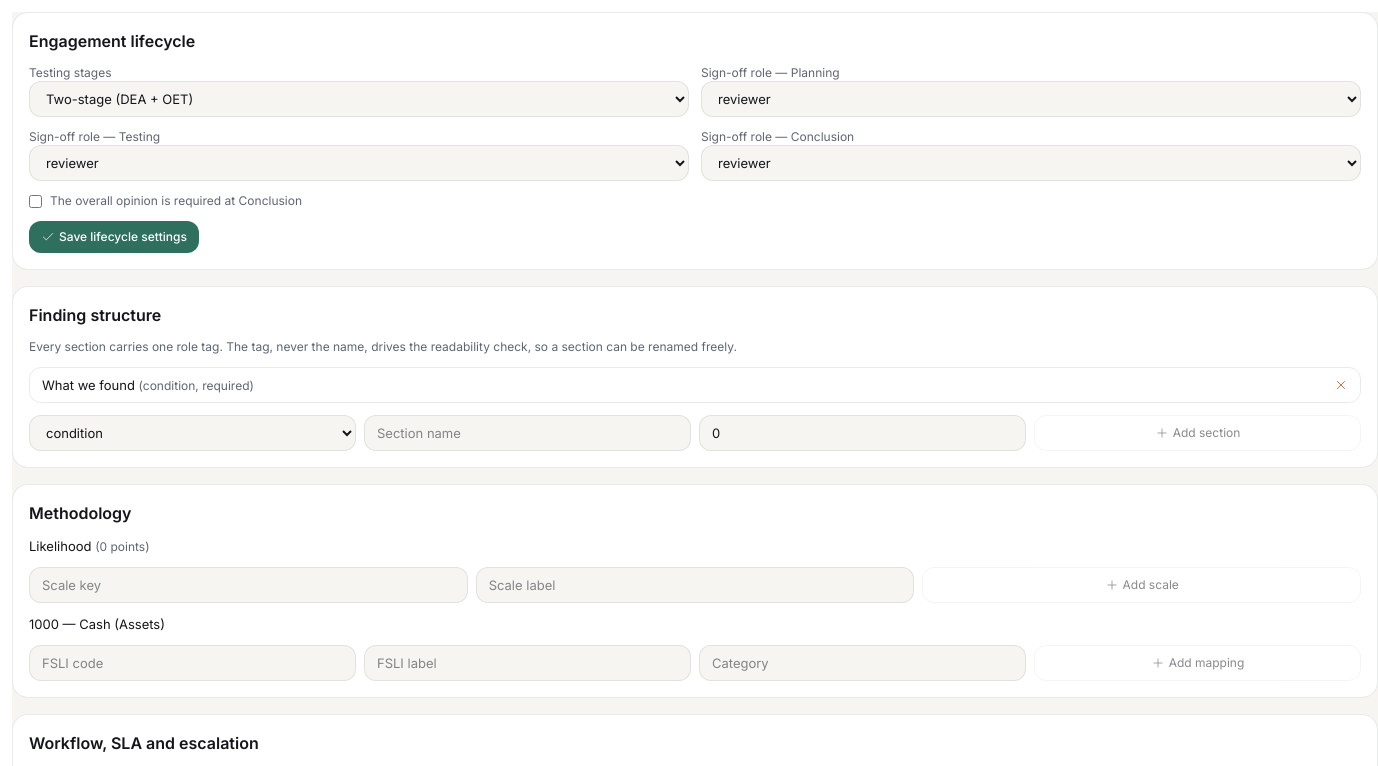
Test case: OA-22 governance settings (C3.2-B) › saves the lifecycle settings through the RPC and confirms
The width and height of the screenshot is (1378, 766).
Expected: the button with test id "oa-governance-lifecycle-save" is shown, [29,221,199,253]
Step 1. Select "One-stage (OET only)" in the dropdown with test id "oa-governance-testing-mode" → (359, 99), box [29,81,689,117]
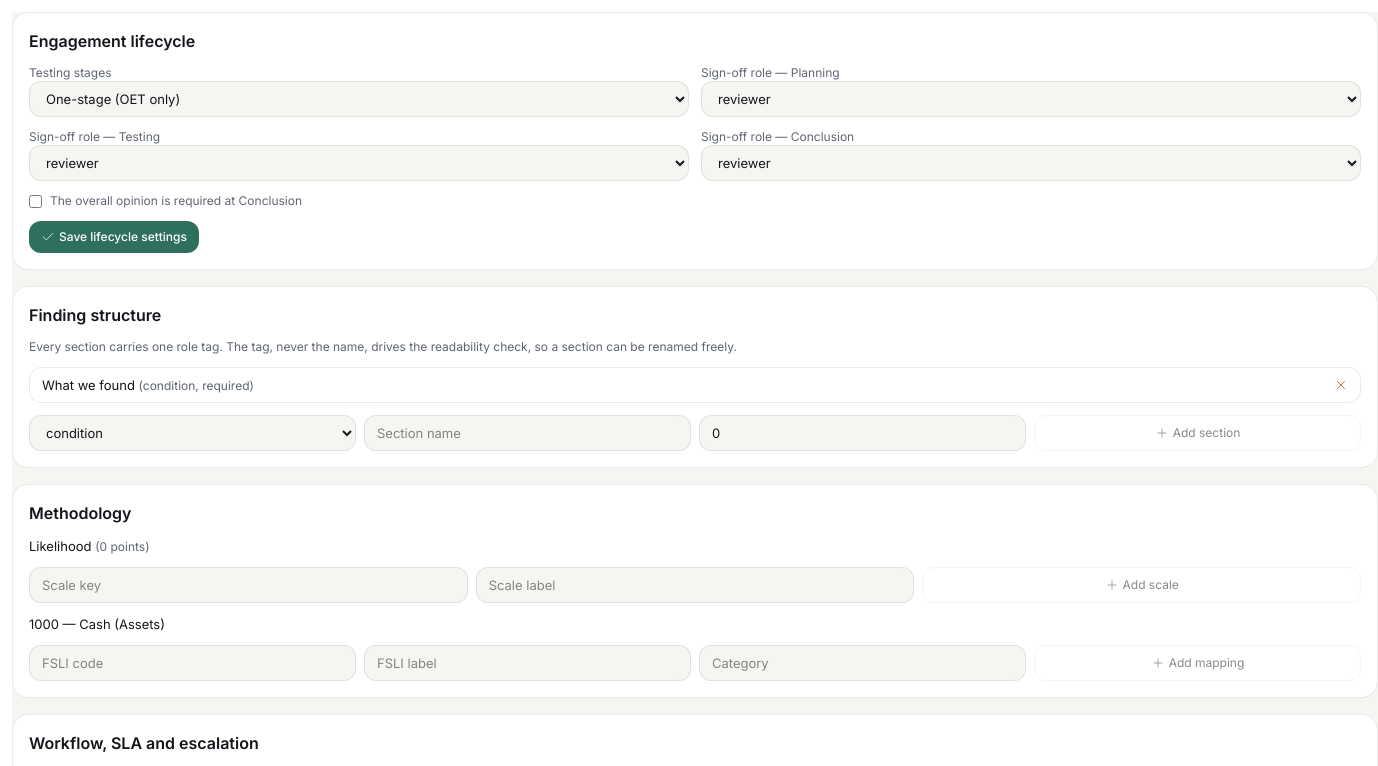
Step 2. Click the button with test id "oa-governance-lifecycle-save" → (114, 237), box [29,221,199,253]
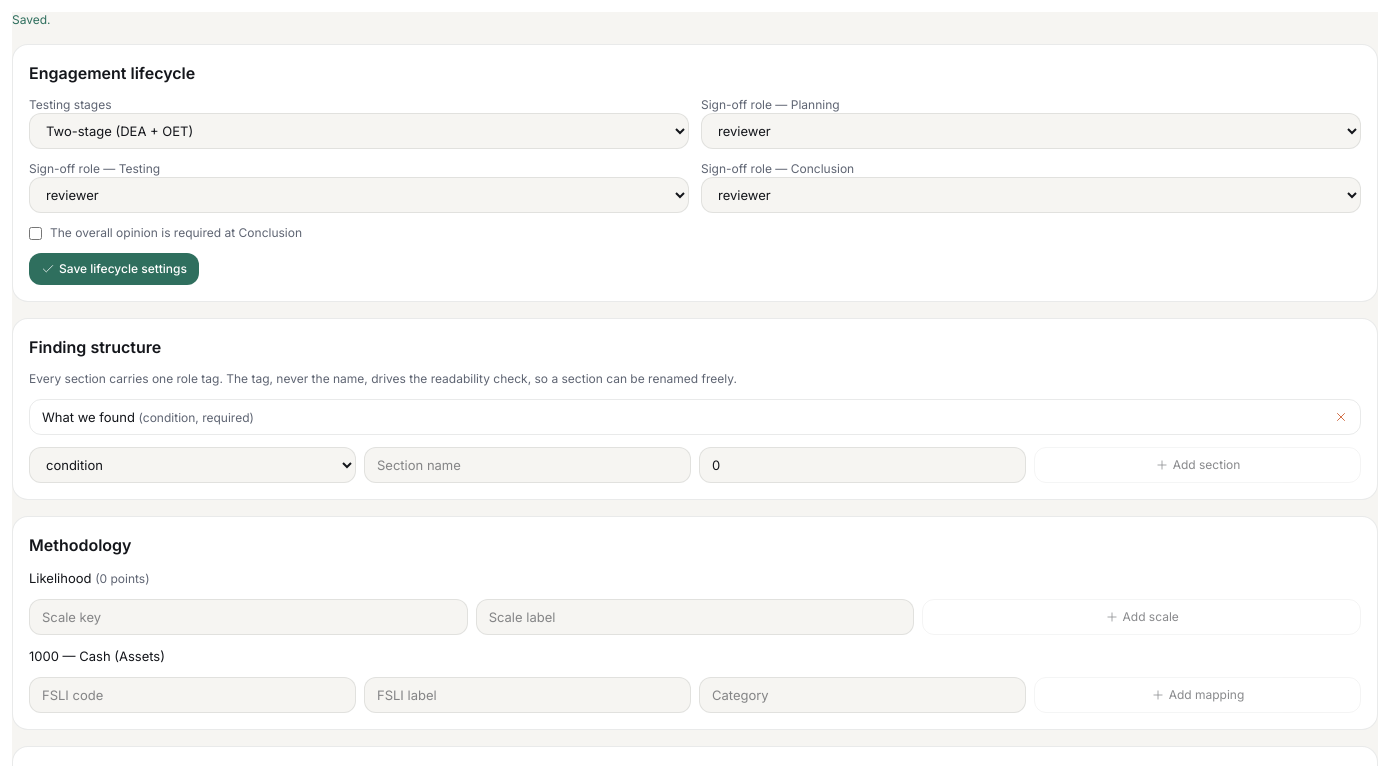
Expected: the text with test id "oa-governance-result" shows "Saved", [12,12,51,27]
